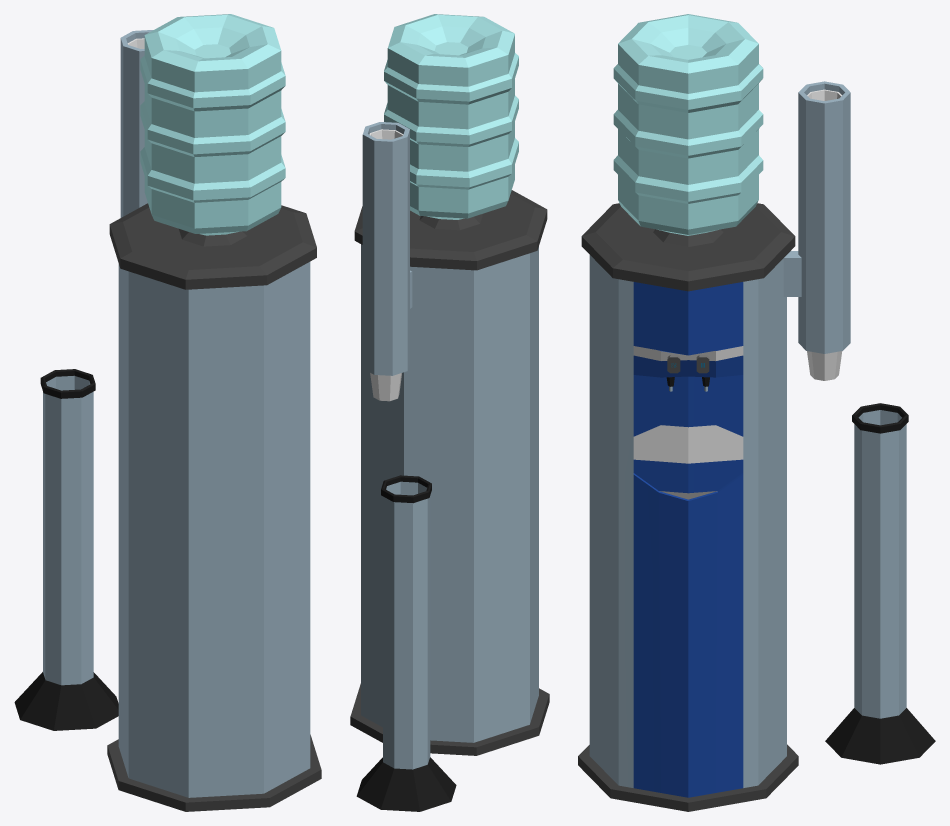
File: water dispenser.fbx
3 views of the same model, side by side, from view 1: azimuth 30°, elevation 25°; view 2: azimuth 150°, elevation 25°; view 3: azimuth 270°, elevation 25° (orthographic). The views are drawn at different scales.
Visible parts, largest first — view 1: water dispenser, water dispenser.001, water dispenser bin; view 2: water dispenser, water dispenser.001, water dispenser bin; view 3: water dispenser, water dispenser.001, water dispenser bin.
Part boxes in pixels (x1,y1,x2,y2): water dispenser: [107, 30, 321, 811]; water dispenser.001: [140, 14, 285, 235]; water dispenser bin: [14, 369, 118, 730]; water dispenser: [350, 122, 549, 755]; water dispenser.001: [384, 14, 518, 219]; water dispenser bin: [356, 475, 456, 811]; water dispenser: [578, 81, 850, 811]; water dispenser.001: [613, 14, 763, 235]; water dispenser bin: [825, 403, 935, 764].
Bounding box in the file's own units: 48.1 × 173 × 77.19.
